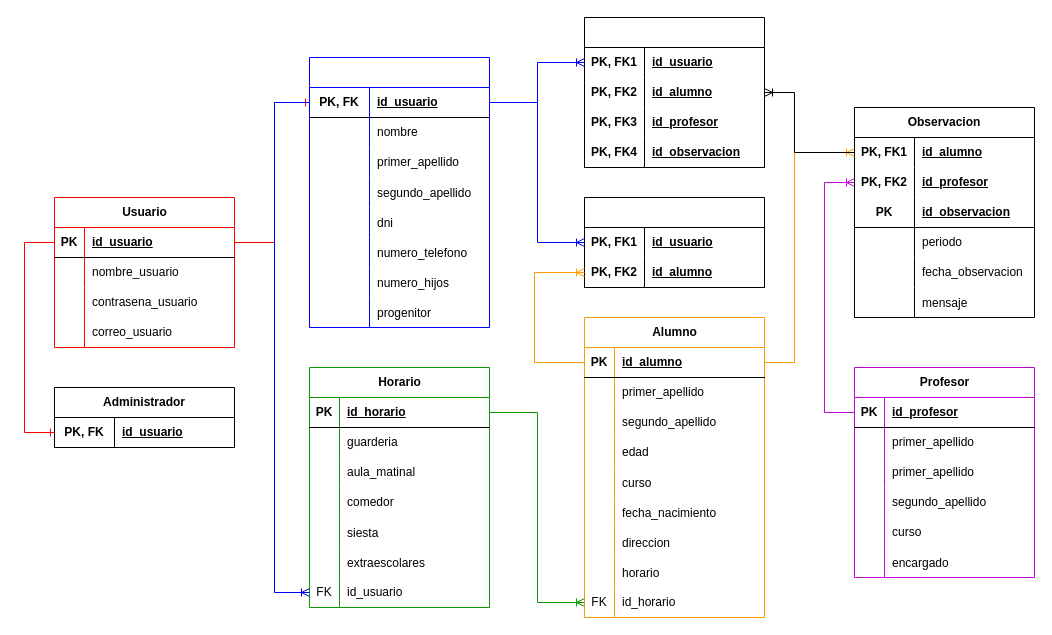
The diagram is 1052 pixels wide and 635 high, and some of its shapes have lost their labels. The box of each missing label's shape, as (x1, y1, x2, y2) in pixels:
Esta_a_cargo: (584, 196, 764, 288)
Puede_ver: (584, 16, 764, 168)
TutorLegal: (308, 56, 490, 328)
